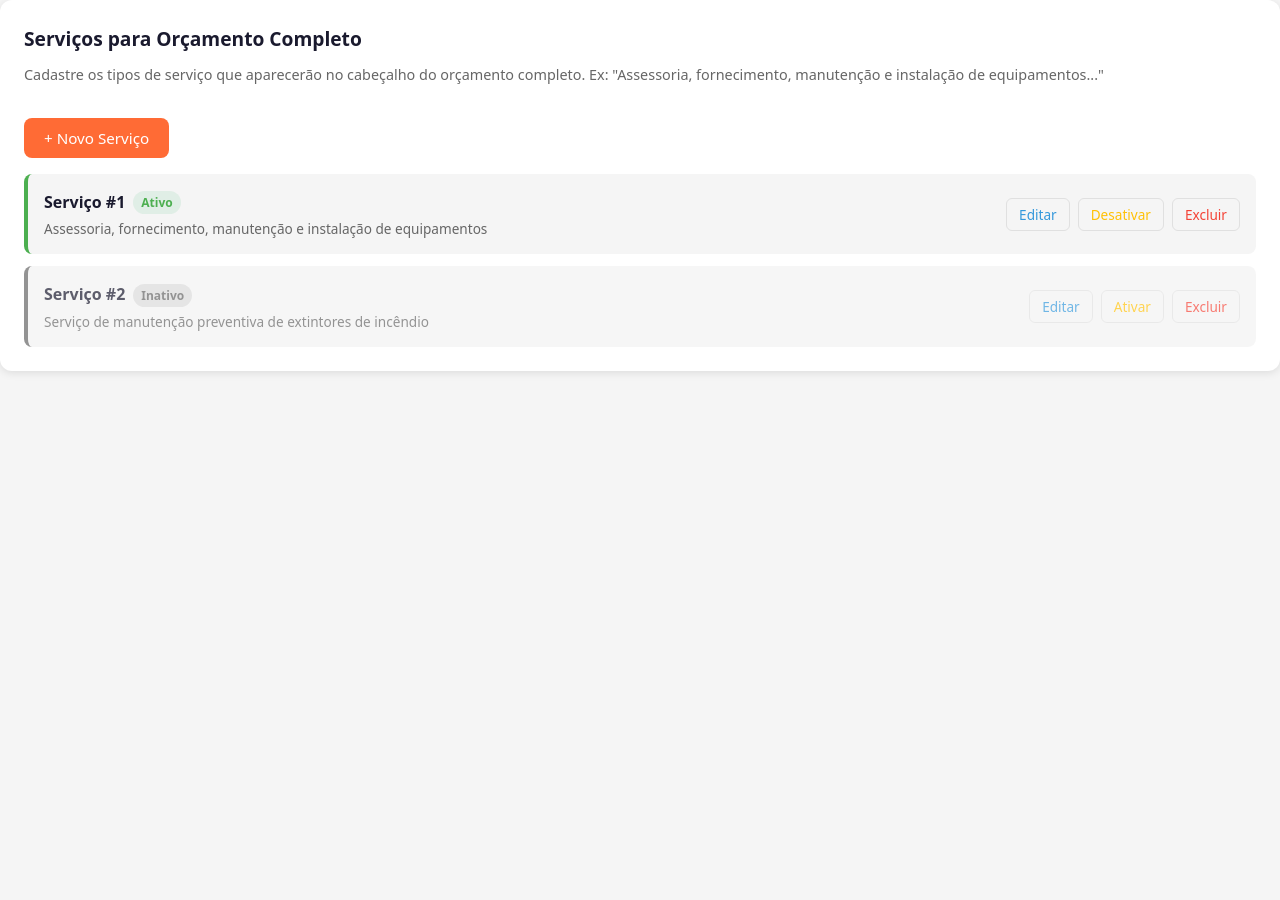
Test: ServicosTab › Modal de novo serviço › deve habilitar botão cadastrar com descrição válida
The image size is (1280, 900).
Click the button "+ Novo Serviço" at (97, 138), box [24, 118, 169, 158]
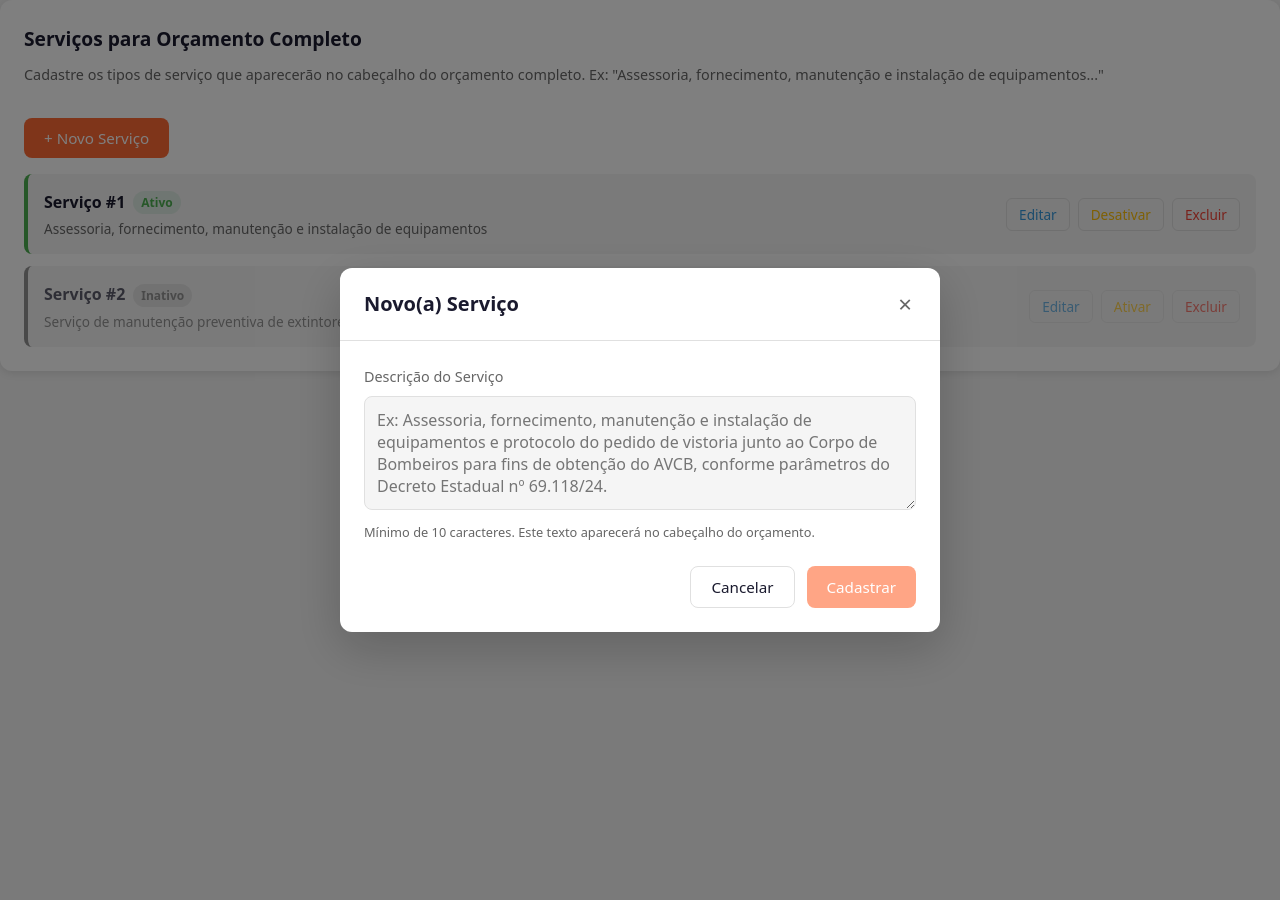
Result: the heading "Novo(a) Serviço" is shown at [364, 288, 519, 320]
Replace the text in the text box with placeholder "Ex: Assessoria" with "Descrição válida com mais de 10 caracteres" at (640, 453), box [364, 396, 916, 510]
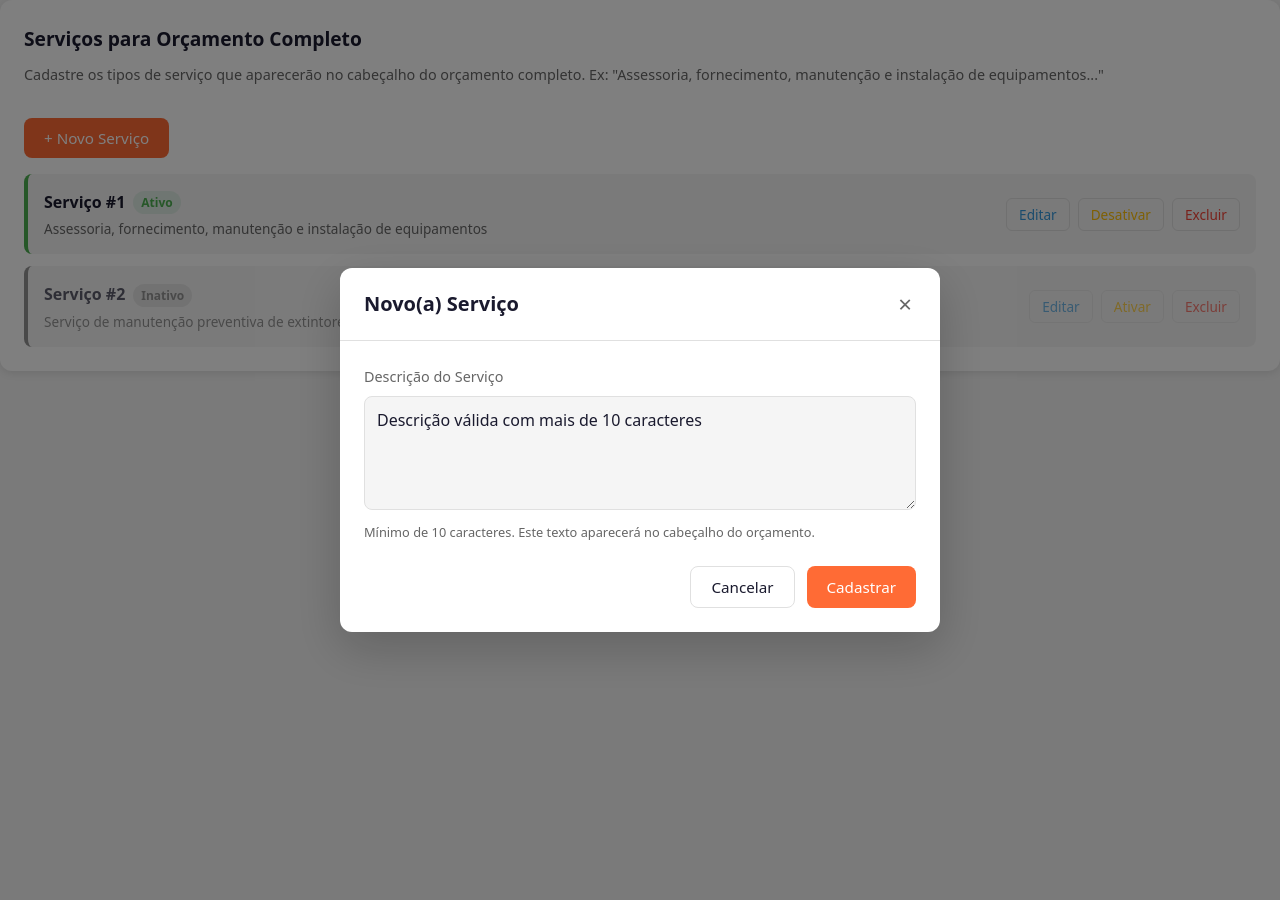
Result: the button "Cadastrar" is enabled at [806, 566, 916, 608]
